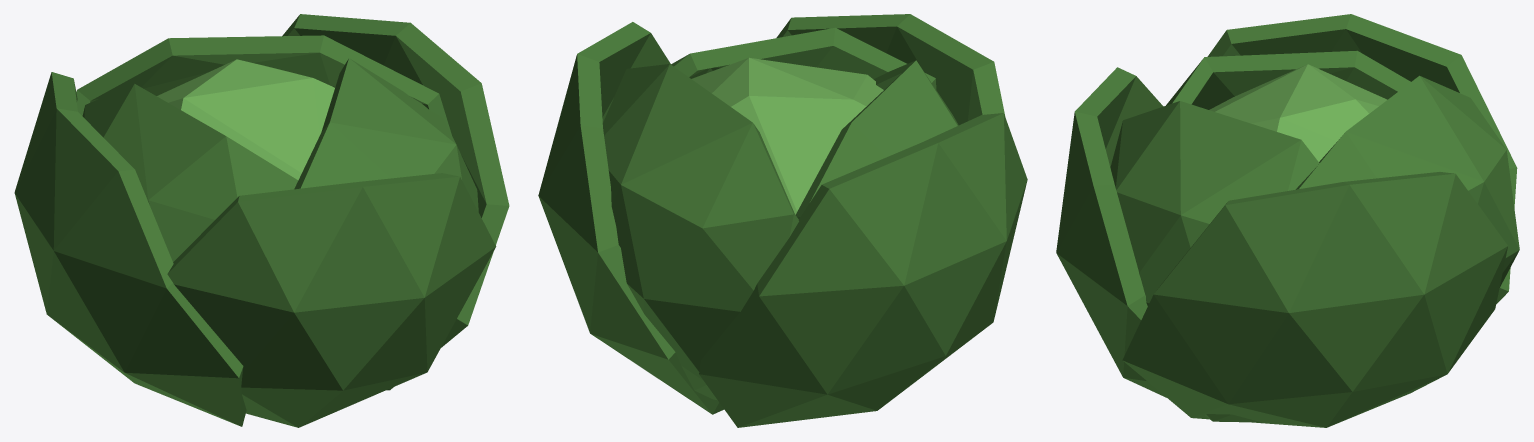
The model's file is Cabbage_01.fbx.
3 renders of one model, left to right at view 1: azimuth 30°, elevation 25°; view 2: azimuth 150°, elevation 25°; view 3: azimuth 270°, elevation 25°, orthographic. The views are drawn at different scales.
Visible parts, largest first — view 1: Cabbage_01; view 2: Cabbage_01; view 3: Cabbage_01.
Part boxes in pixels (<box>): Cabbage_01: <box>14,14,509,427</box>; Cabbage_01: <box>538,14,1027,427</box>; Cabbage_01: <box>1056,14,1519,427</box>.
Size of the model in its own units: 21.35 by 15.25 by 20.28.
